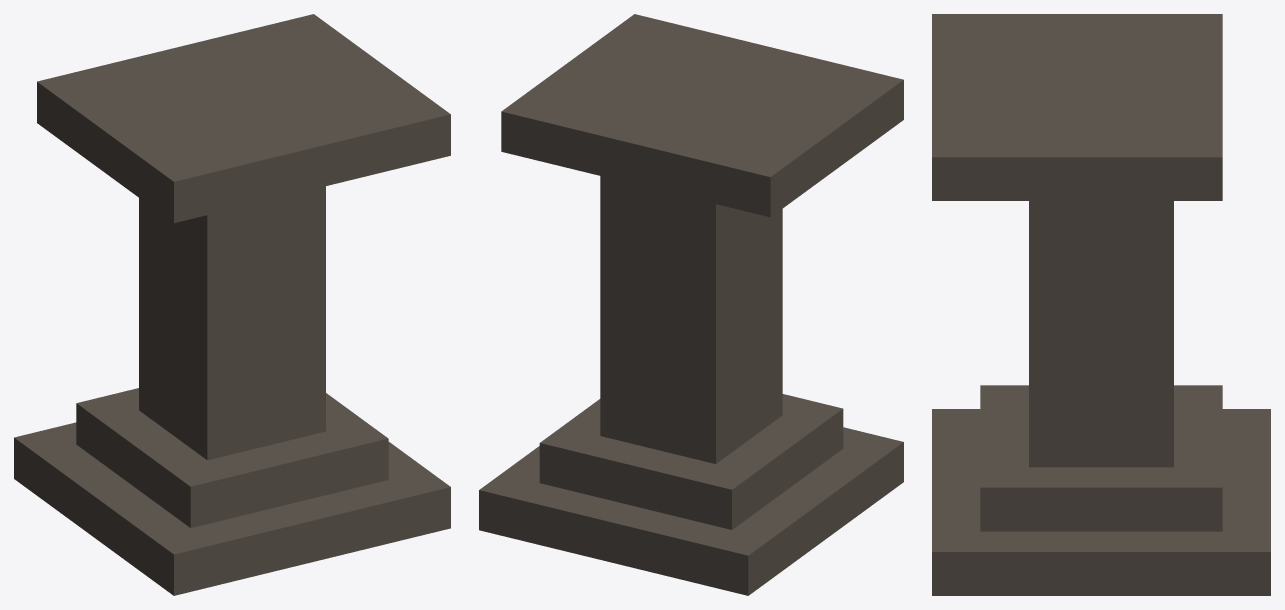
File: altar_a_b.obj
The picture shows the model from 3 angles, left to right: view 1: azimuth 30°, elevation 25°; view 2: azimuth 150°, elevation 25°; view 3: azimuth 270°, elevation 25°; orthographic projection. The views are drawn at different scales.
Bounding box in the file's own units: 0.7 × 1 × 0.7.
Materials: 1 (1 with a texture image).
